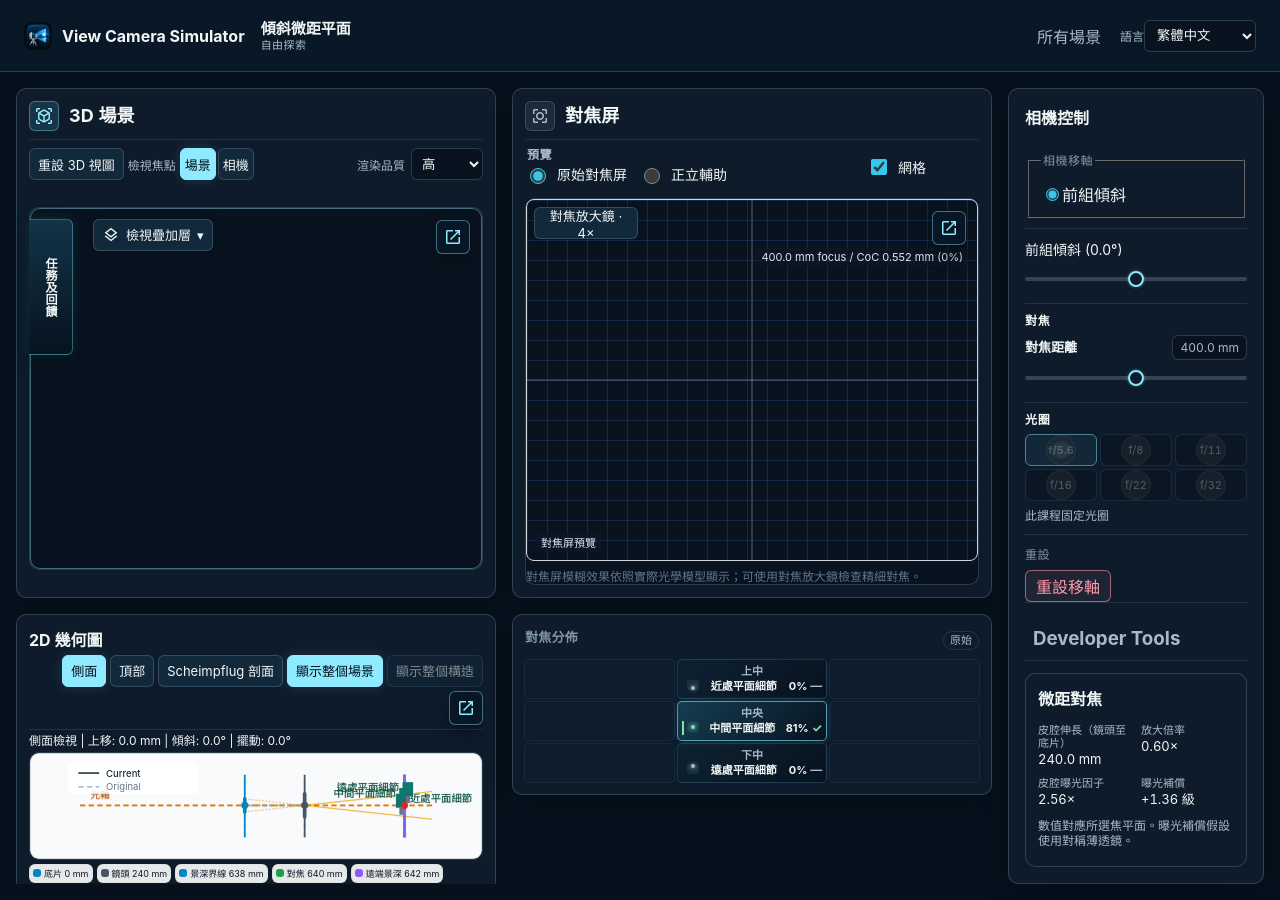
Macro Scene 3 teaching › renders the Scene 3 teaching copy in zh-HK
Click the button with aria-label "開啟任務及回饋". click: (51, 287)
box: x1=29 y1=219 x2=73 y2=355
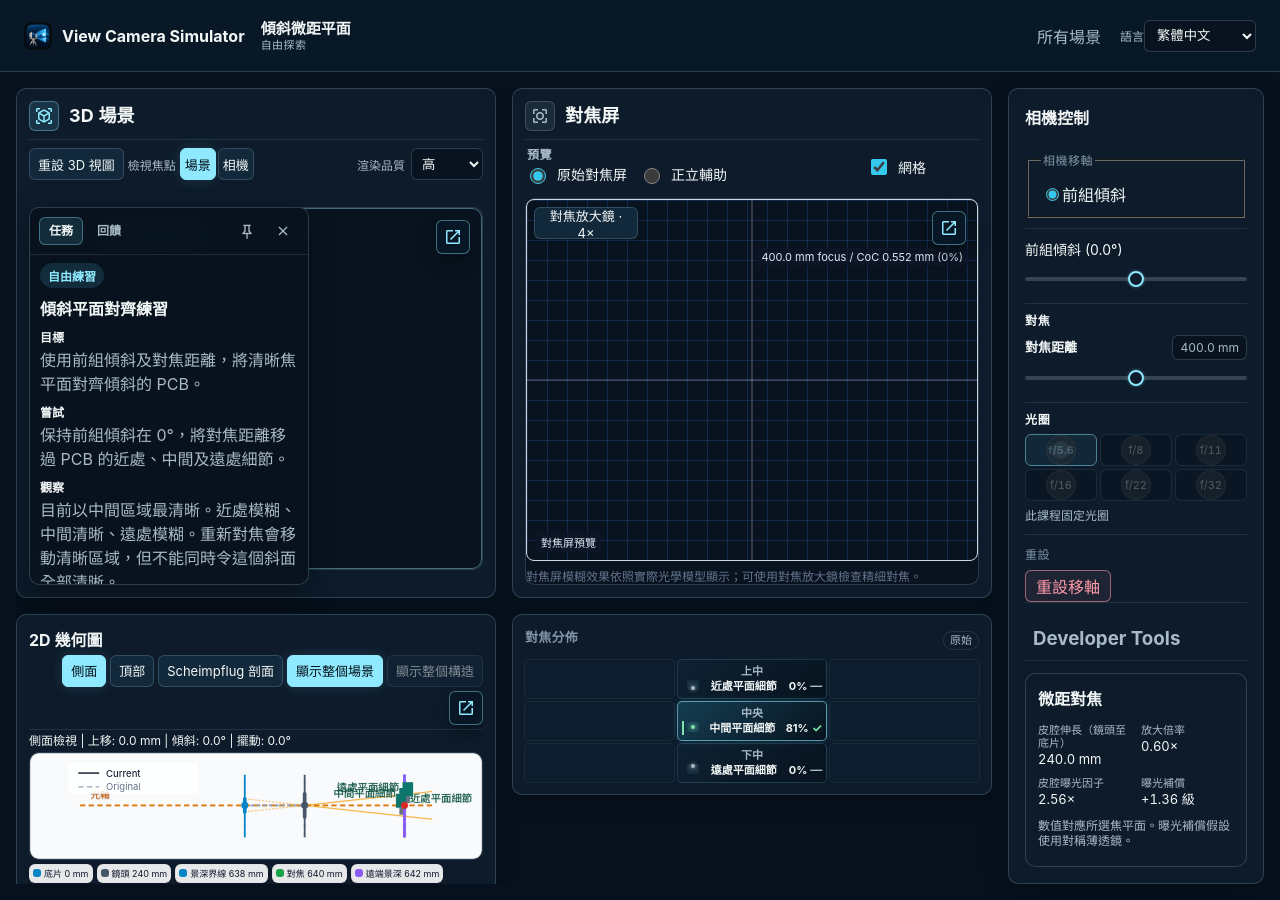
Expected: the element with test id "learning-overlay-task-view" shows "目標", x1=40 y1=330 x2=64 y2=345
Expected: the element with test id "learning-overlay-task-view" shows "傾斜平面對齊", x1=40 y1=299 x2=168 y2=319
Expected: the element with test id "learning-overlay-task-view" shows "重新對焦會移動清晰區域", x1=40 y1=500 x2=296 y2=584
Set the slider labelled "前組傾斜" to "2". click: (1157, 279)
box: x1=1025 y1=265 x2=1247 y2=293
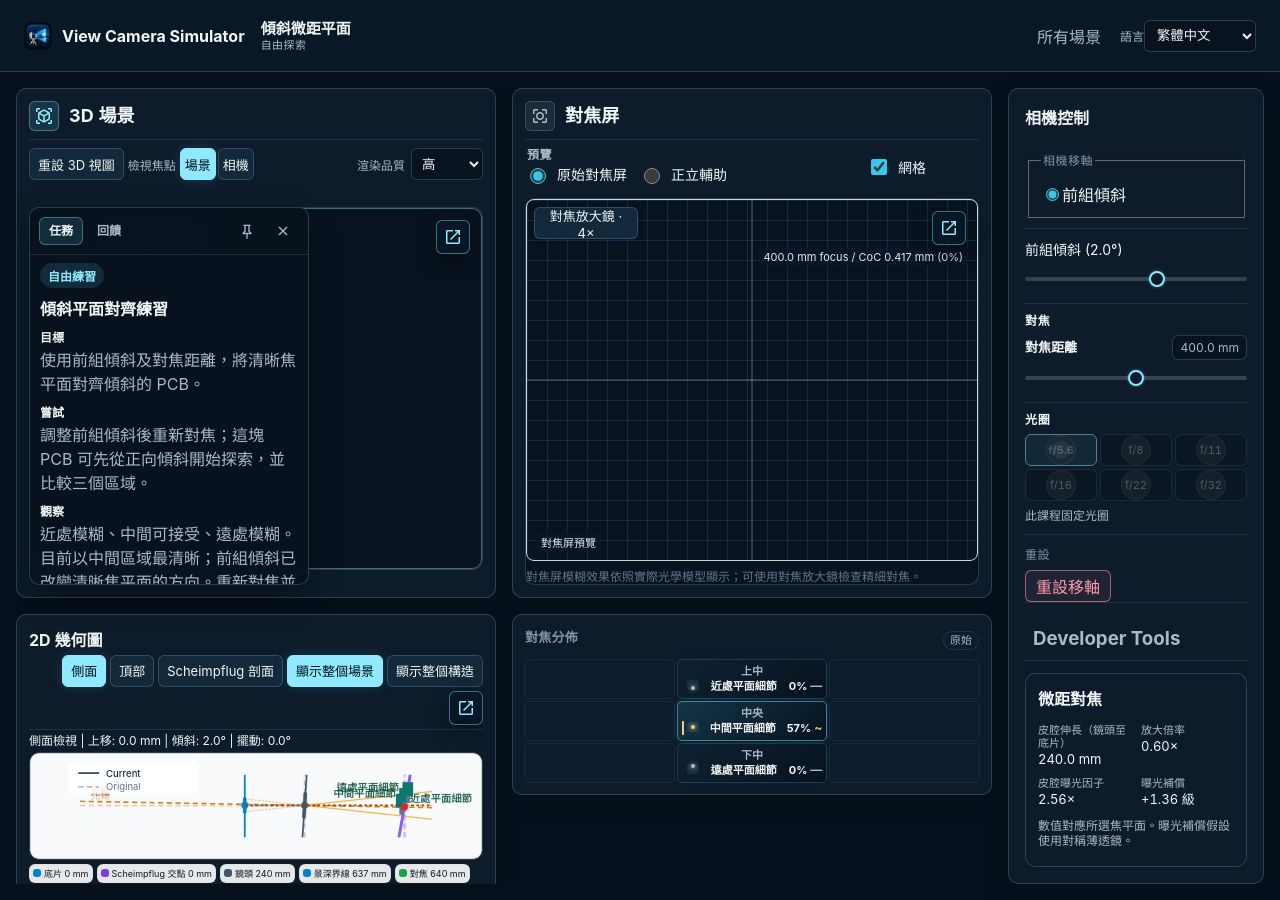
Expected: the element with test id "learning-overlay-task-view" does not show "轉向 PCB", x1=30 y1=255 x2=308 y2=584
Expected: the element with test id "learning-overlay-task-view" shows "正向傾斜開始探索", x1=40 y1=425 x2=285 y2=493
Set the slider labelled "前組傾斜" to "6.3". click: (1201, 279)
box: x1=1025 y1=265 x2=1247 y2=293
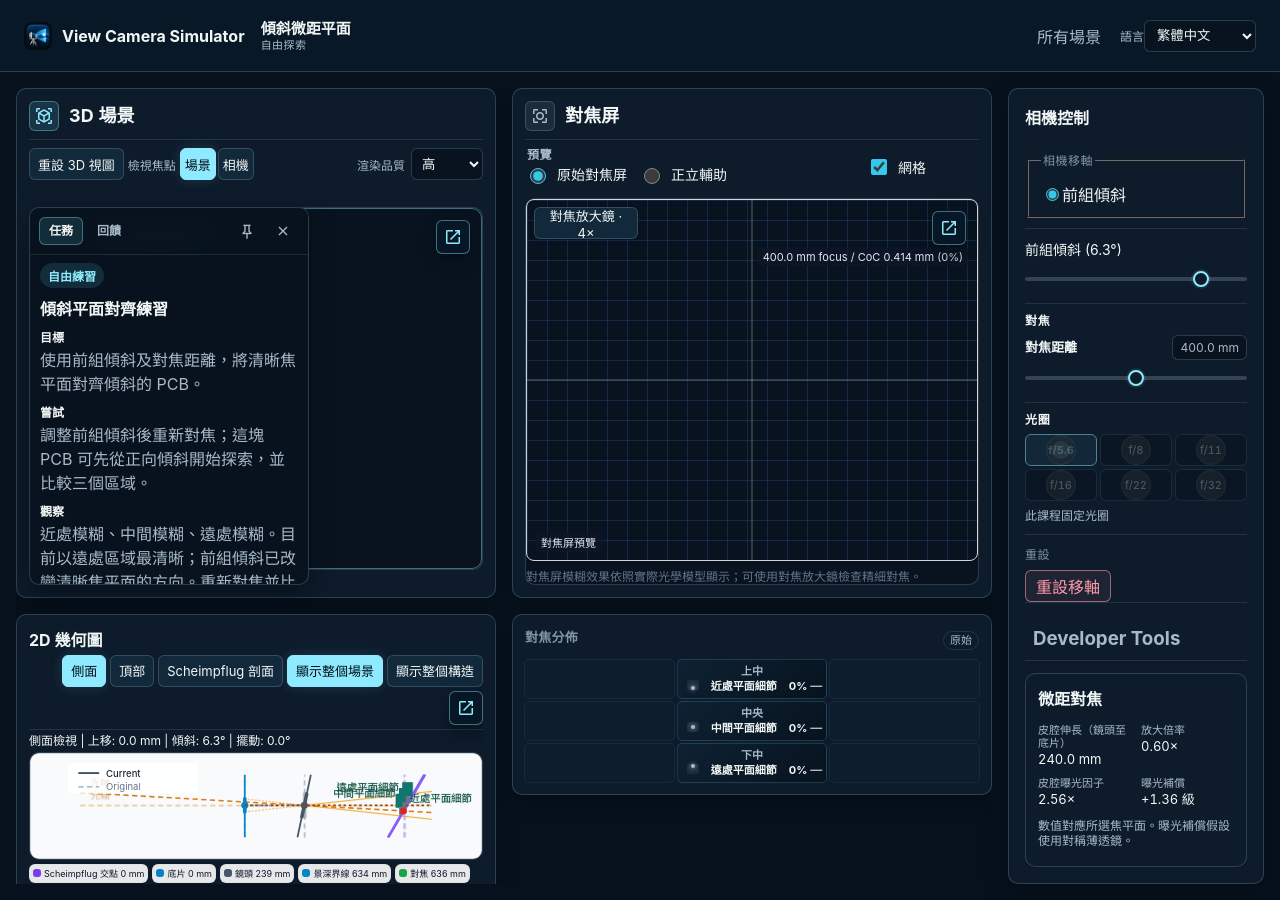
Set the slider labelled "對焦距離" to "390". click: (1110, 378)
box: x1=1025 y1=364 x2=1247 y2=392
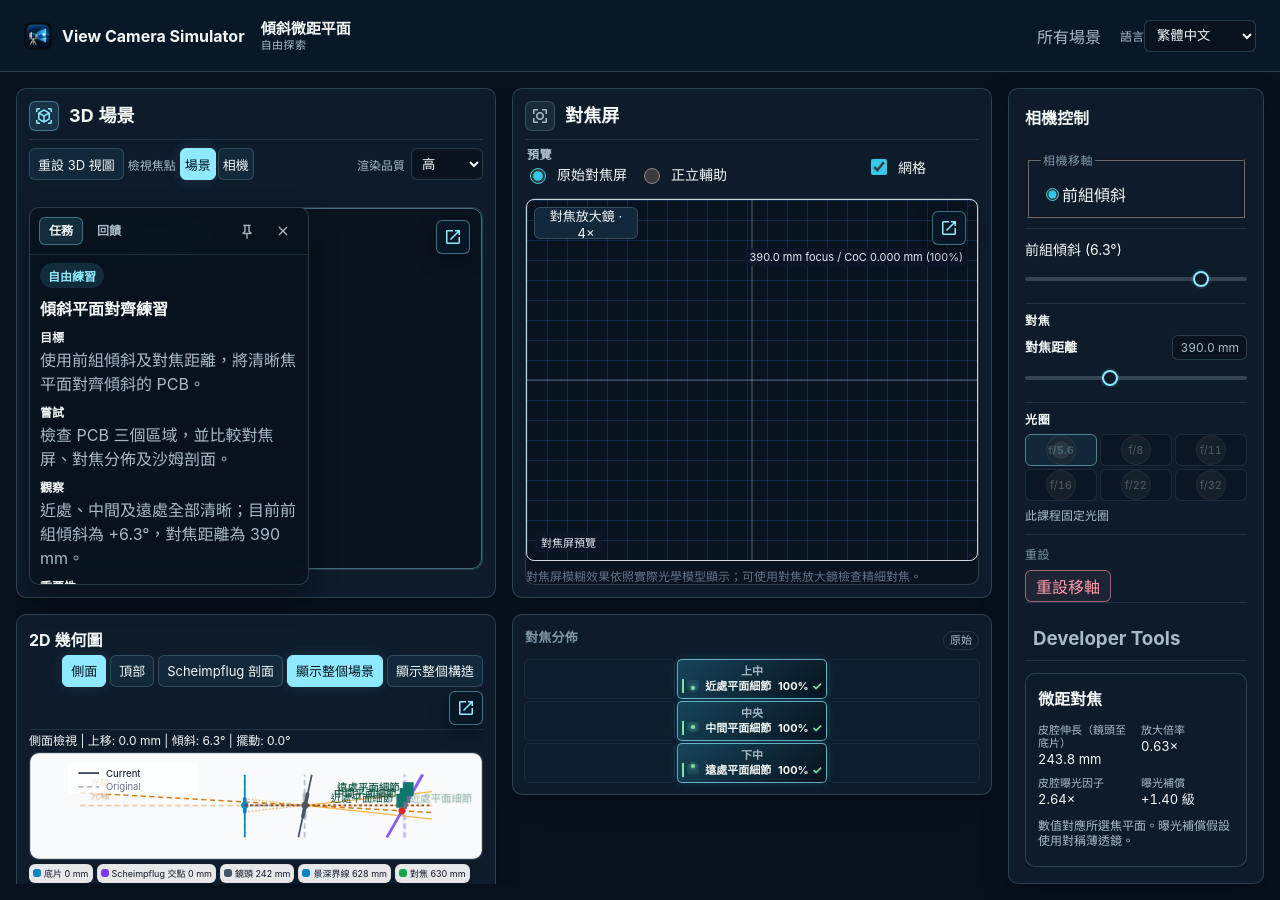
Expected: the element with test id "learning-overlay-task-view" shows "全部清晰", x1=40 y1=500 x2=296 y2=568
